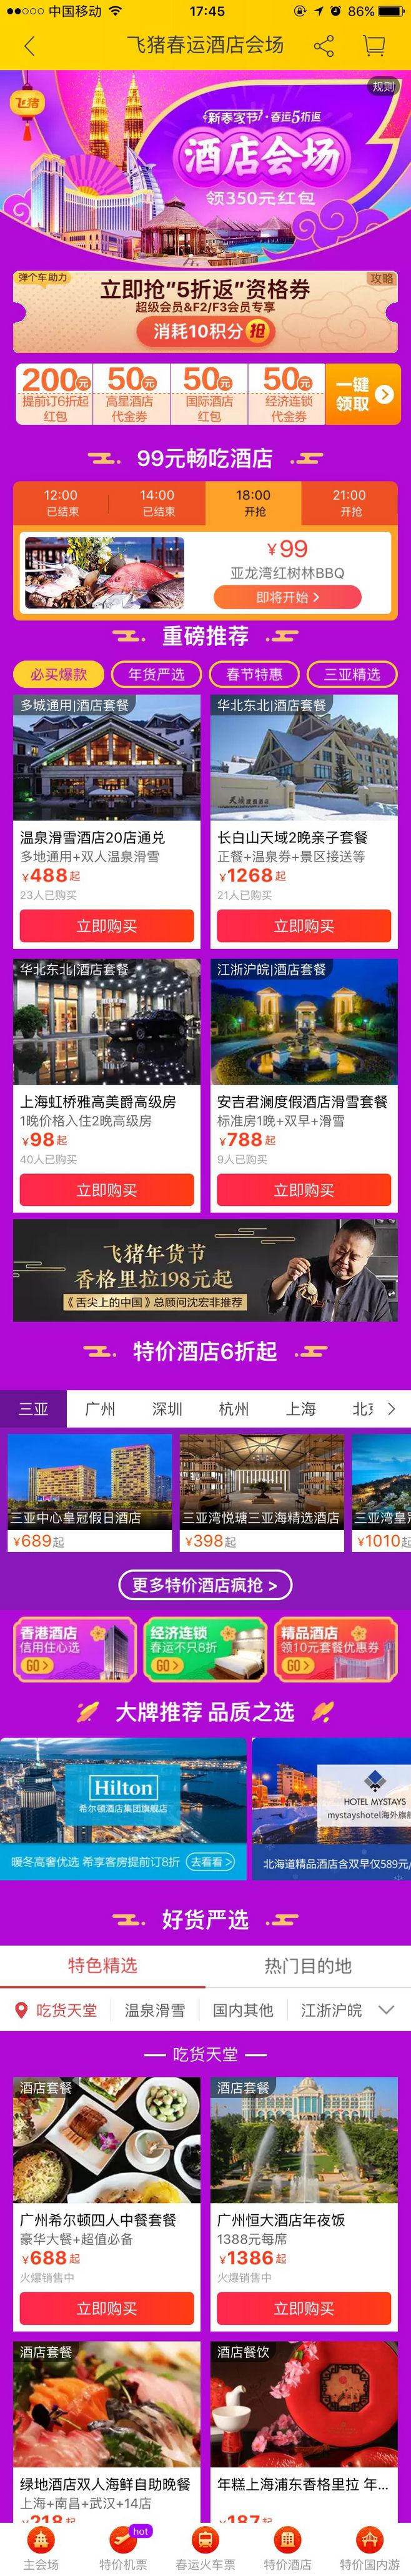floors: (0, 624, 411, 1322), (0, 1907, 411, 2522), (0, 1336, 411, 1686), (0, 1694, 411, 1883), (0, 445, 411, 621), (0, 271, 411, 425)
toutu: (0, 71, 411, 271)
